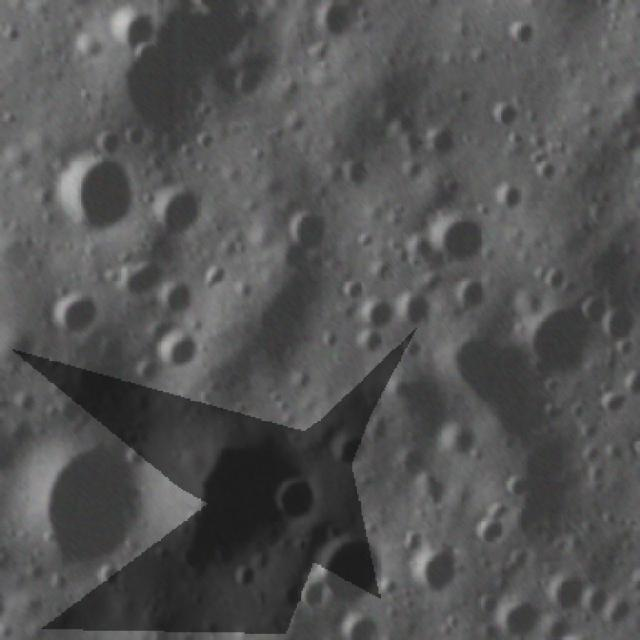crater: (171, 422, 320, 582), (22, 424, 160, 570), (433, 332, 553, 446), (522, 290, 608, 381), (302, 533, 402, 610), (47, 152, 139, 235), (426, 207, 492, 267), (274, 200, 334, 257), (148, 184, 204, 242), (104, 1, 162, 57), (45, 288, 103, 340), (408, 545, 462, 600), (274, 470, 321, 530), (115, 252, 167, 302), (306, 0, 360, 46), (153, 324, 205, 370), (542, 565, 588, 613), (436, 419, 482, 463), (594, 304, 640, 348), (150, 283, 201, 320), (226, 62, 272, 103), (500, 600, 546, 640), (396, 227, 438, 268), (571, 286, 614, 326), (288, 577, 334, 614), (486, 95, 526, 136), (488, 177, 530, 215), (418, 126, 459, 163), (407, 474, 453, 506), (530, 263, 573, 297), (597, 598, 634, 637), (64, 30, 105, 65), (502, 13, 536, 55), (329, 432, 368, 468), (526, 156, 566, 190), (358, 295, 396, 330), (228, 563, 266, 597), (352, 324, 390, 358), (472, 520, 513, 551), (115, 118, 150, 153), (340, 155, 375, 190), (582, 582, 616, 618), (128, 353, 161, 384), (334, 277, 371, 303), (90, 127, 121, 158), (574, 442, 608, 468), (618, 367, 640, 404), (507, 474, 533, 504), (603, 438, 628, 469), (574, 422, 603, 448), (398, 334, 427, 358), (624, 563, 640, 597)
